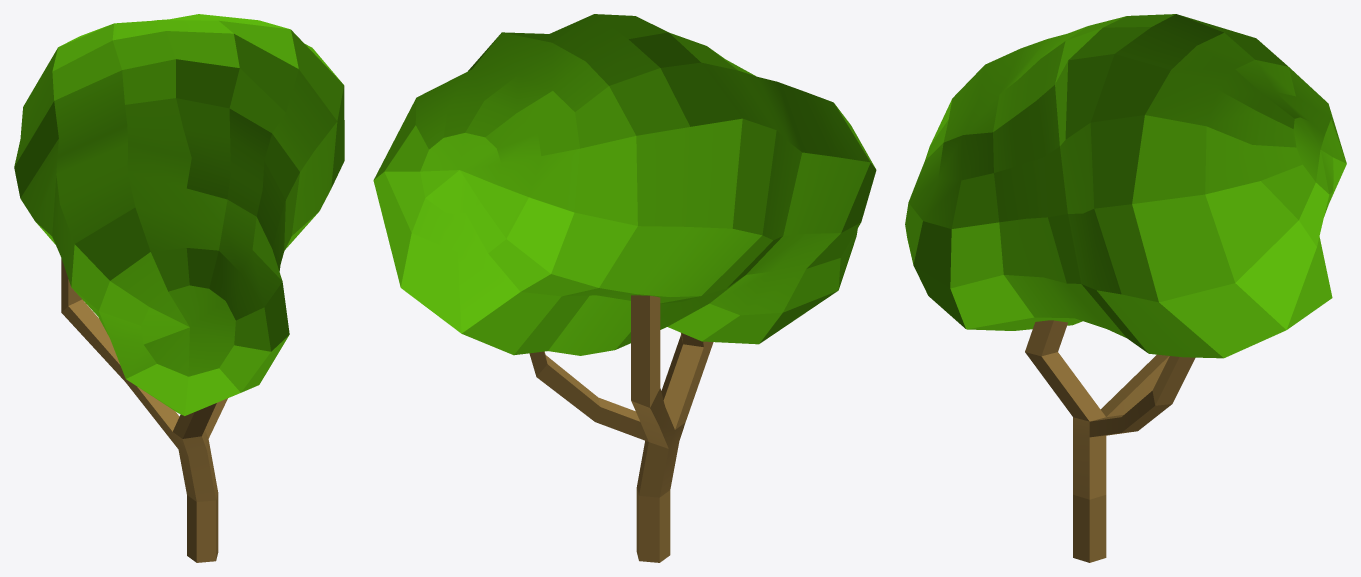
The model's file is Tree3.obj.
3 renders of one model, left to right at view 1: azimuth 30°, elevation 25°; view 2: azimuth 150°, elevation 25°; view 3: azimuth 270°, elevation 25°, orthographic. The views are drawn at different scales.
Visible parts, largest first — view 1: Leaves.1, Trunk.1; view 2: Leaves.1, Trunk.1; view 3: Leaves.1, Trunk.1.
Part boxes in pixels (x1,y1,x2,y2): Leaves.1: (14, 14, 344, 415); Trunk.1: (61, 258, 227, 562); Leaves.1: (373, 14, 876, 355); Trunk.1: (529, 295, 713, 562); Leaves.1: (905, 14, 1346, 358); Trunk.1: (1025, 320, 1195, 562).
Size of the model in its own units: 12.25 by 16.61 by 12.67.
